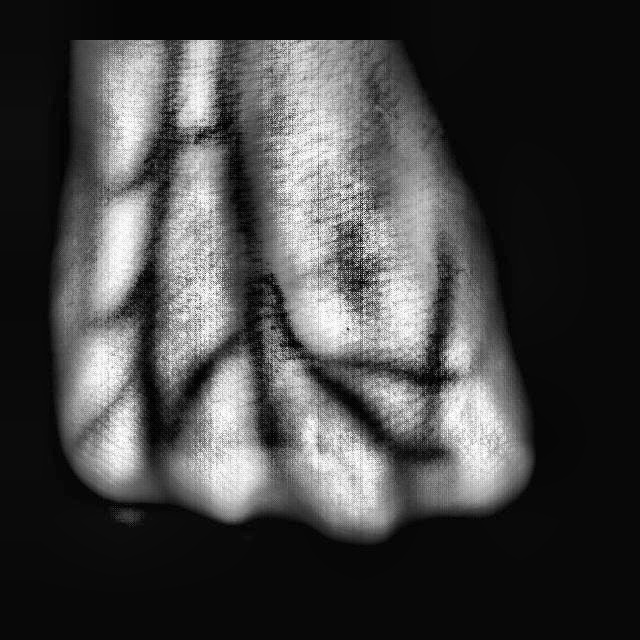Vein: (134, 99, 183, 305), (212, 84, 269, 261)
